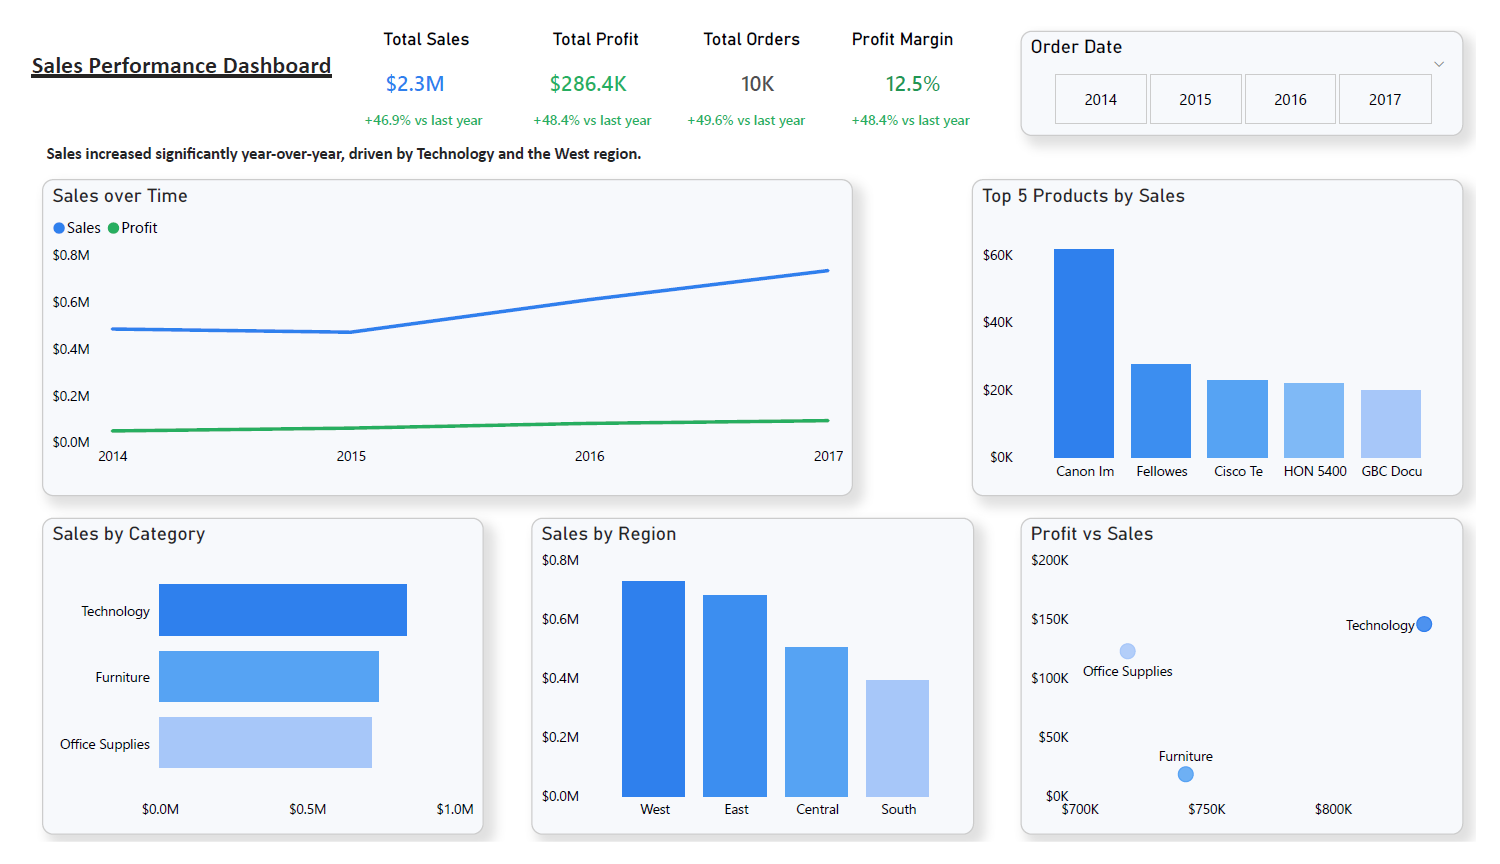

What the dashboard file says about the page in this screenshot:
{"tool":"powerbi","page":{"name":"Sales Performance Dashboard","canvas":[1280,720],"ordinal":0},"visuals":[{"type":"cardVisual","title":"Total Sales","fields":{"Data":["Measures_Business.Profit YoY Label"]},"box":[698.6,43,170,76],"z":0},{"type":"cardVisual","title":"Total Sales","fields":{"Data":["Measures_Business.Orders YoY Label"]},"box":[553.8,42.5,170,76.2],"z":1000},{"type":"cardVisual","title":"Total Sales","fields":{"Data":["Measures_Business.Profit YoY Label"]},"box":[418,43,170,75.7],"z":2000},{"type":"cardVisual","title":"Total Sales","fields":{"Data":["Measures_Business.Sales YoY Label"]},"box":[268.5,43,170,75.7],"z":3000},{"type":"lineChart","title":"Sales over Time","fields":{"Category":["Orders.Order Date.Variation.Date Hierarchy.Year","Orders.Order Date.Variation.Date Hierarchy.Quarter","Orders.Order Date.Variation.Date Hierarchy.Month","Orders.Order Date.Variation.Date Hierarchy.Day"],"Y":["Sum(Orders.Sales)","Sum(Orders.Profit)"]},"box":[14.3,135,715.7,280],"z":4000},{"type":"clusteredBarChart","title":"Sales by Category","fields":{"Category":["Orders.Category"],"Y":["Sum(Orders.Sales)"]},"box":[13.9,434.4,390,280],"z":5000},{"type":"clusteredColumnChart","title":"Top 5 Products by Sales","fields":{"Category":["Orders.Short Product Name"],"Y":["Sum(Orders.Sales)"]},"box":[835,135.3,434,280],"z":6000},{"type":"slicer","title":"Order Date","fields":{"Values":["Orders.Order Date.Variation.Date Hierarchy.Year"]},"box":[878,4,391,93],"z":7000},{"type":"clusteredColumnChart","title":"Sales by Region","fields":{"Category":["Orders.Region"],"Y":["Sum(Orders.Sales)"]},"box":[445.9,434.4,390.6,279.9],"z":8000},{"type":"cardVisual","title":"Total Profit","fields":{"Data":["Measures_Business.Total Profit"]},"box":[433,2.2,140,74],"z":9000},{"type":"cardVisual","title":"Total Orders","fields":{"Data":["Measures_Business.Total Orders"]},"box":[593.1,2.2,105.7,74],"z":10000},{"type":"scatterChart","title":"Profit vs Sales","fields":{"X":["Sum(Orders.Sales)"],"Y":["Sum(Orders.Profit)"],"Series":["Orders.Category"],"Category":["Orders.Category"]},"box":[878.5,434.5,390.6,279.9],"z":11000},{"type":"cardVisual","title":"Profit Margin","fields":{"Data":["Measures_Business.Profit Margin"]},"box":[724.4,2.2,118.6,74],"z":12000},{"type":"cardVisual","title":"Total Sales","fields":{"Data":["Measures_Business.Total Sales"]},"box":[287.8,2.2,131.4,74],"z":13000},{"type":"textbox","box":[0,16.4,311.8,45.5],"z":14000},{"type":"textbox","box":[12.5,97.5,600,43.8],"z":14001}]}

Visuals, with their boxes in screenshot pixels (x1, y1, x2, y2), scaled from the page's 1280x720 canvas onto the 1500x864 screenshot:
"Total Sales" cardVisual: 819,52,1018,143
"Total Sales" cardVisual: 649,51,848,142
"Total Sales" cardVisual: 490,52,689,142
"Total Sales" cardVisual: 315,52,514,142
"Sales over Time" lineChart: 17,162,855,498
"Sales by Category" clusteredBarChart: 16,521,473,857
"Top 5 Products by Sales" clusteredColumnChart: 979,162,1487,498
"Order Date" slicer: 1029,5,1487,116
"Sales by Region" clusteredColumnChart: 523,521,980,857
"Total Profit" cardVisual: 507,3,671,91
"Total Orders" cardVisual: 695,3,819,91
"Profit vs Sales" scatterChart: 1029,521,1487,857
"Profit Margin" cardVisual: 849,3,988,91
"Total Sales" cardVisual: 337,3,491,91
textbox: 0,20,365,74
textbox: 15,117,718,170
